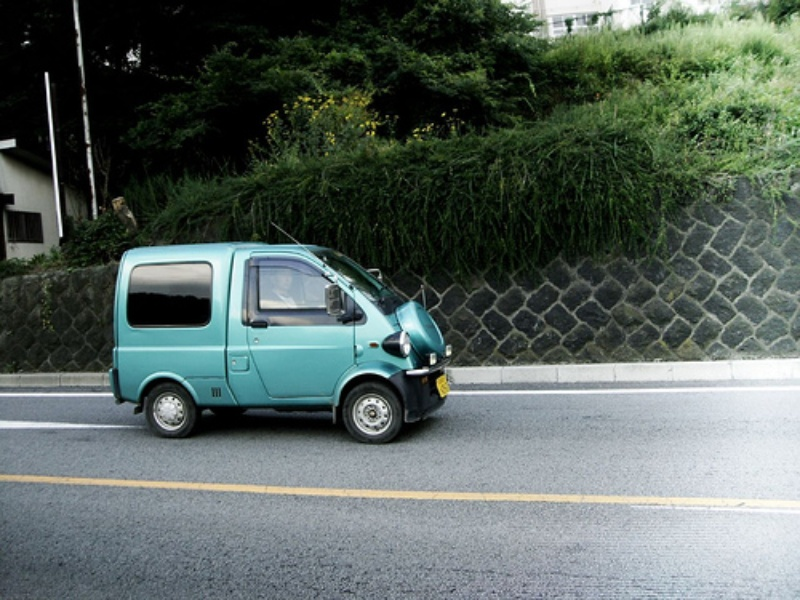car: (109, 241, 452, 442)
